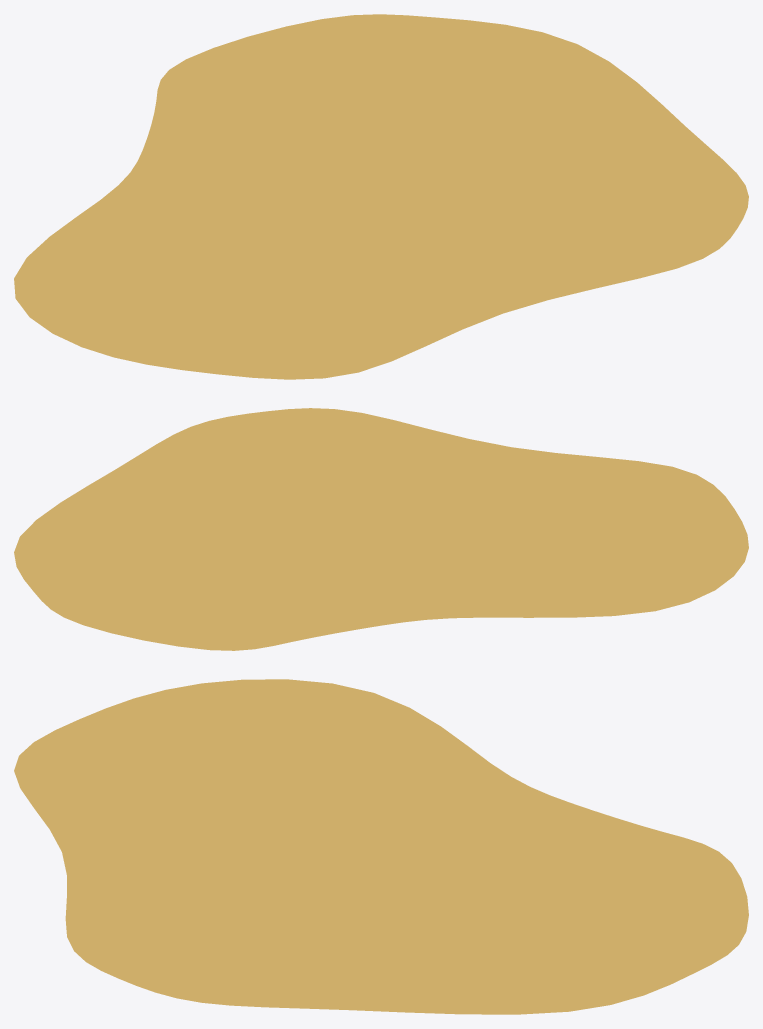
File: spot.gltf
3 renders of one model, top to bottom at view 1: azimuth 30°, elevation 25°; view 2: azimuth 150°, elevation 25°; view 3: azimuth 270°, elevation 25°, orthographic. The views are drawn at different scales.
Visible parts, largest first — view 1: Plane; view 2: Plane; view 3: Plane.
Part boxes in pixels (bbox=[...]): Plane: bbox=[14, 14, 748, 379]; Plane: bbox=[14, 408, 748, 650]; Plane: bbox=[14, 679, 748, 1014].
Size of the model in its own units: 1.93 by 0 by 1.79.
Materials: 1 (1 with a texture image).
